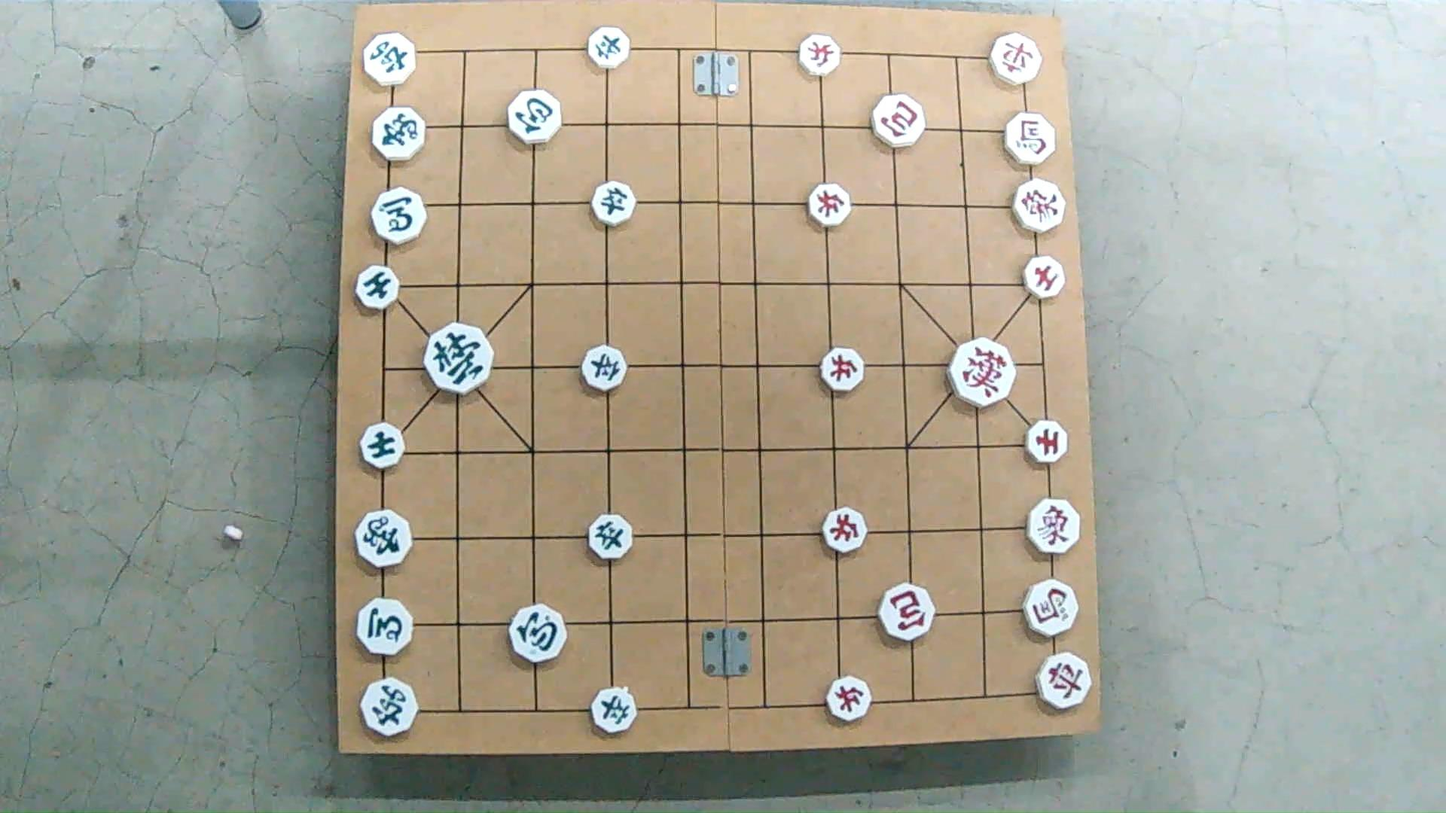cha_green: (358, 679, 421, 734), (365, 34, 417, 88)
cha_red: (1040, 652, 1093, 711), (991, 33, 1042, 86)
jol_green: (592, 687, 638, 733), (583, 346, 629, 391), (590, 184, 636, 227), (588, 516, 635, 558), (589, 29, 633, 69)
jol_red: (823, 677, 869, 720), (821, 510, 867, 552), (816, 350, 863, 391), (795, 35, 840, 76), (805, 187, 849, 228)
ma_green: (358, 595, 413, 658), (372, 190, 427, 243)
ma_red: (1026, 580, 1078, 635), (1005, 114, 1057, 165)
po_green: (506, 603, 566, 662), (508, 93, 562, 144)
po_red: (879, 586, 934, 641), (871, 97, 925, 148)
sa_green: (362, 424, 407, 468), (355, 265, 401, 306)
sa_red: (1022, 258, 1066, 298), (1027, 421, 1067, 463)
sang_green: (353, 511, 413, 566), (370, 105, 426, 160)
sang_red: (1027, 501, 1081, 555), (1016, 178, 1067, 231)
wang_green: (424, 326, 493, 393)
wang_red: (947, 343, 1014, 405)
